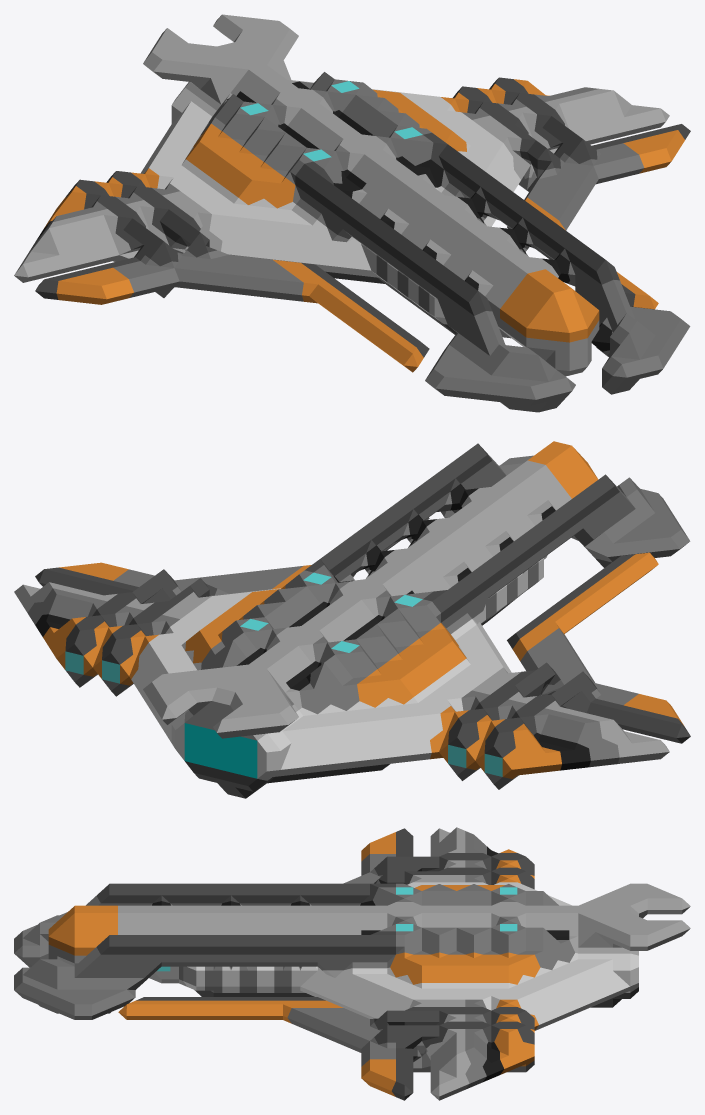
File: ship_federation_fighter_heavy.fbx
3 renders of one model, top to bottom at view 1: azimuth 30°, elevation 25°; view 2: azimuth 150°, elevation 25°; view 3: azimuth 270°, elevation 25°, orthographic. The views are drawn at different scales.
Visible parts, largest first — view 1: ship_federation_fighter_heavy.mc; view 2: ship_federation_fighter_heavy.mc; view 3: ship_federation_fighter_heavy.mc.
Part boxes in pixels (box(x1,y1,x2,y2)): ship_federation_fighter_heavy.mc: box(14, 14, 690, 412); ship_federation_fighter_heavy.mc: box(14, 441, 690, 798); ship_federation_fighter_heavy.mc: box(14, 827, 690, 1100).
Bounding box in the file's own units: 3600 × 600 × 3900.
